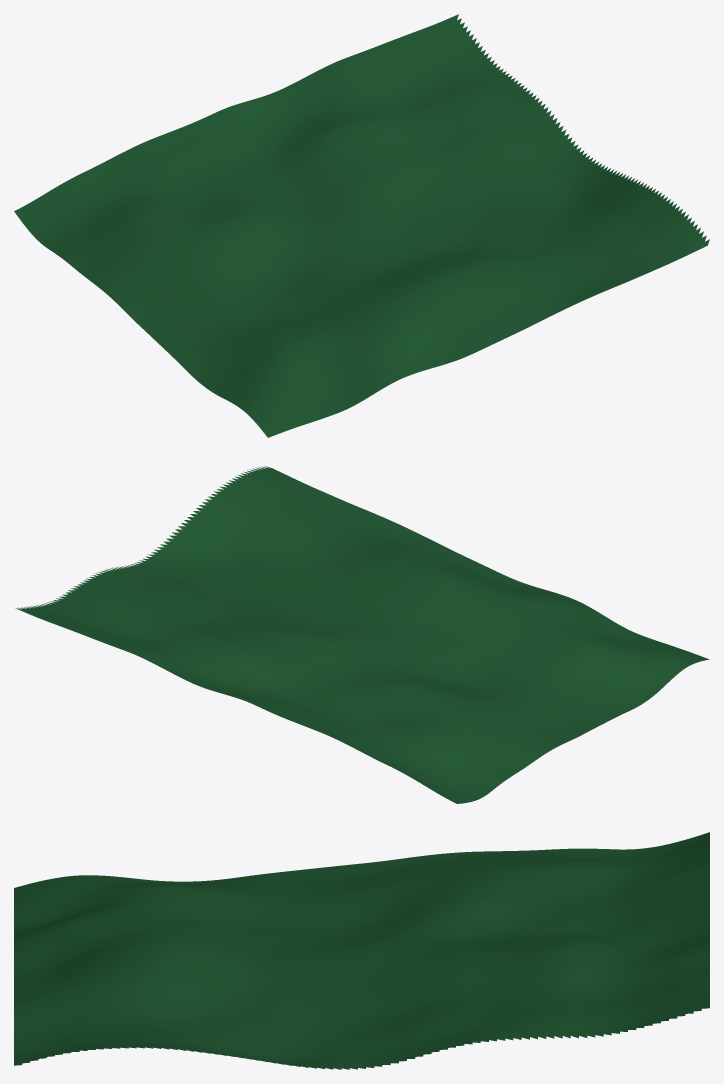
File: payo_land_x2_y0.glb
3 views of the same model, one above another, from view 1: azimuth 30°, elevation 25°; view 2: azimuth 150°, elevation 25°; view 3: azimuth 270°, elevation 25° (orthographic). The views are drawn at different scales.
Visible parts, largest first — view 1: payo_land_x2_y0; view 2: payo_land_x2_y0; view 3: payo_land_x2_y0.
Boxes of the visible parts, box(x1,y1,x2,y2) form: payo_land_x2_y0: box(14, 14, 709, 437); payo_land_x2_y0: box(15, 466, 709, 803); payo_land_x2_y0: box(14, 832, 709, 1069).
Size of the model in its own units: 258 by 71.71 by 255.
